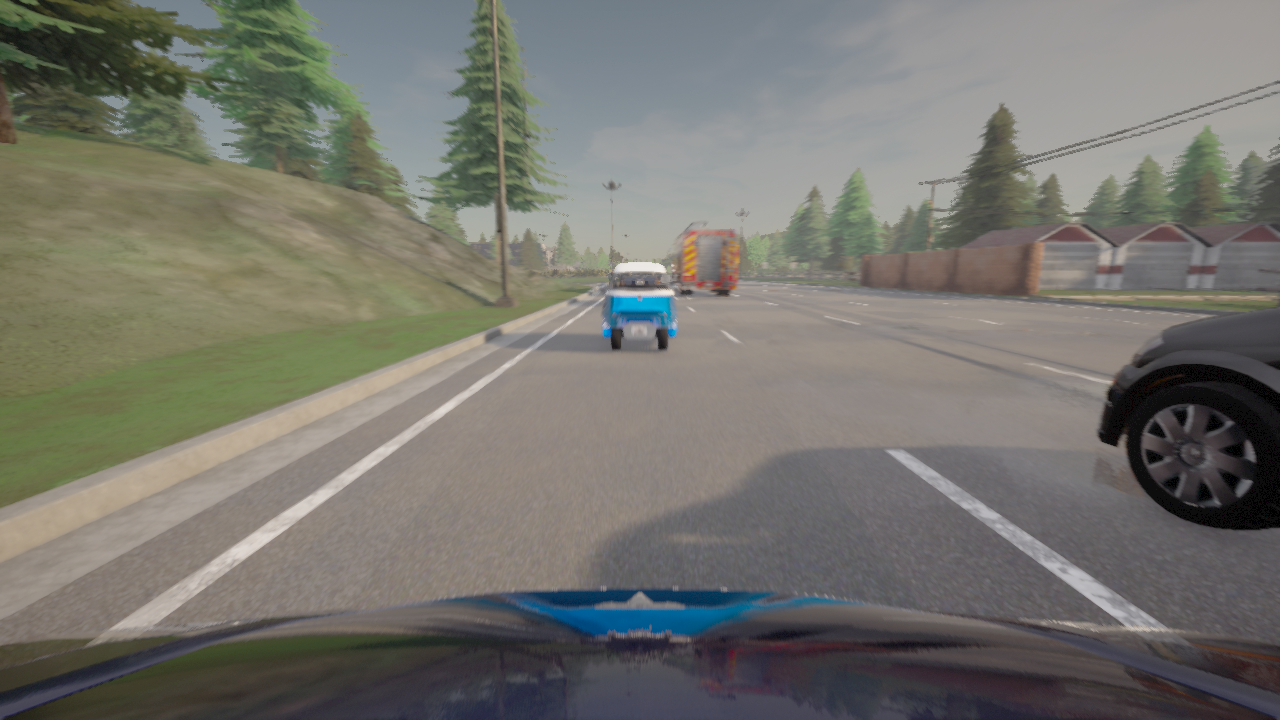cyclist: (0, 588, 1279, 719), (1097, 307, 1279, 531), (599, 263, 680, 351), (668, 220, 737, 295), (608, 274, 611, 281)
